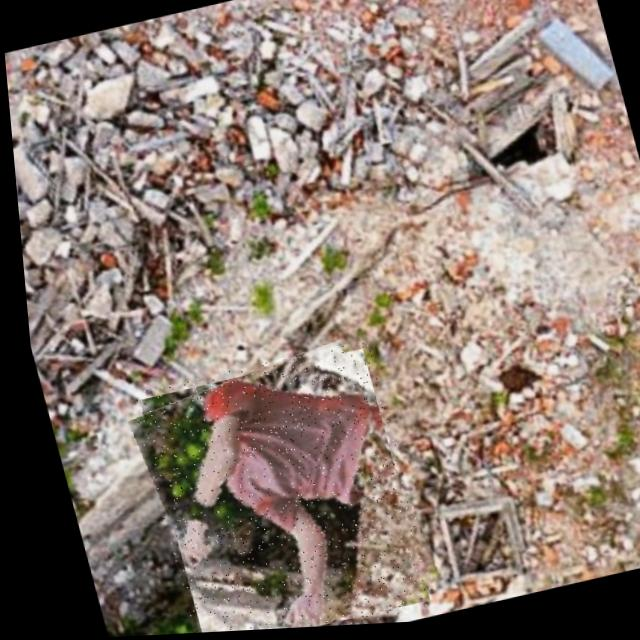Person in Rubble: (119, 338, 429, 636)
